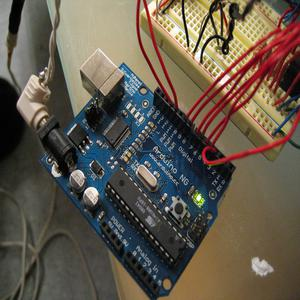duino: (45, 38, 235, 297)
